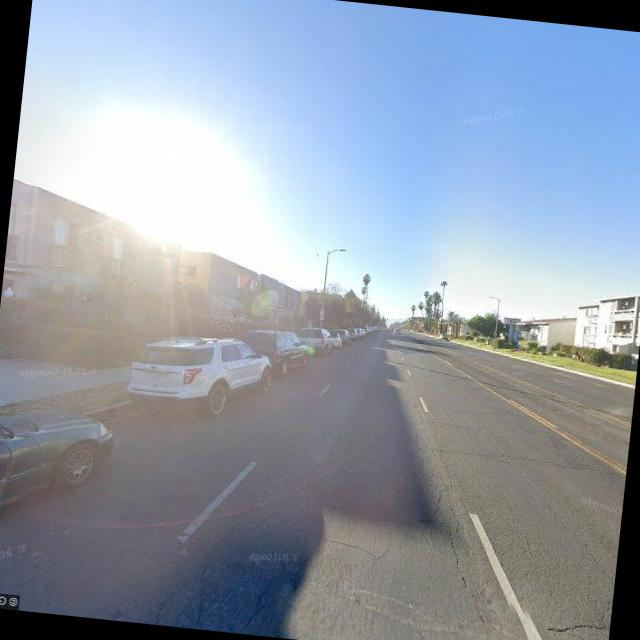crack: (393, 406, 516, 634), (242, 462, 326, 634)
